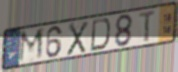6: (45, 25, 64, 60)
8: (113, 13, 134, 48)
D: (89, 17, 111, 53)
M: (17, 27, 45, 65)
T: (138, 9, 157, 44)
X: (66, 20, 90, 57)
